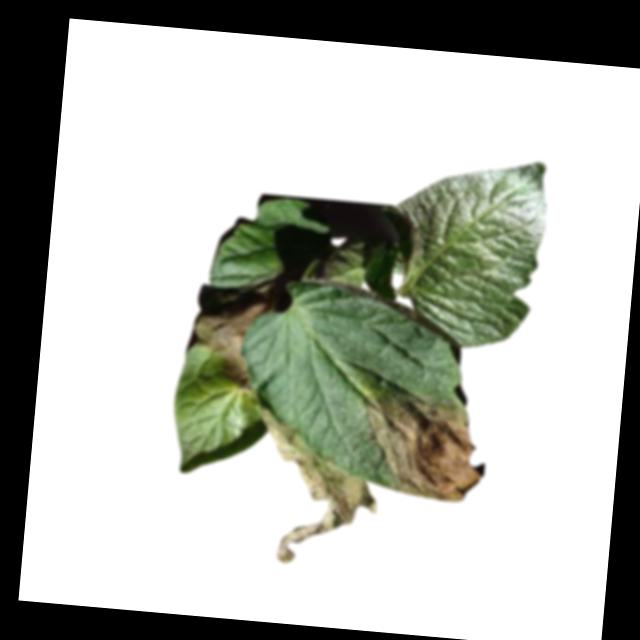Late_blight: (249, 405, 381, 570), (358, 389, 494, 504), (190, 275, 285, 395)
healthy: (383, 148, 555, 354)
